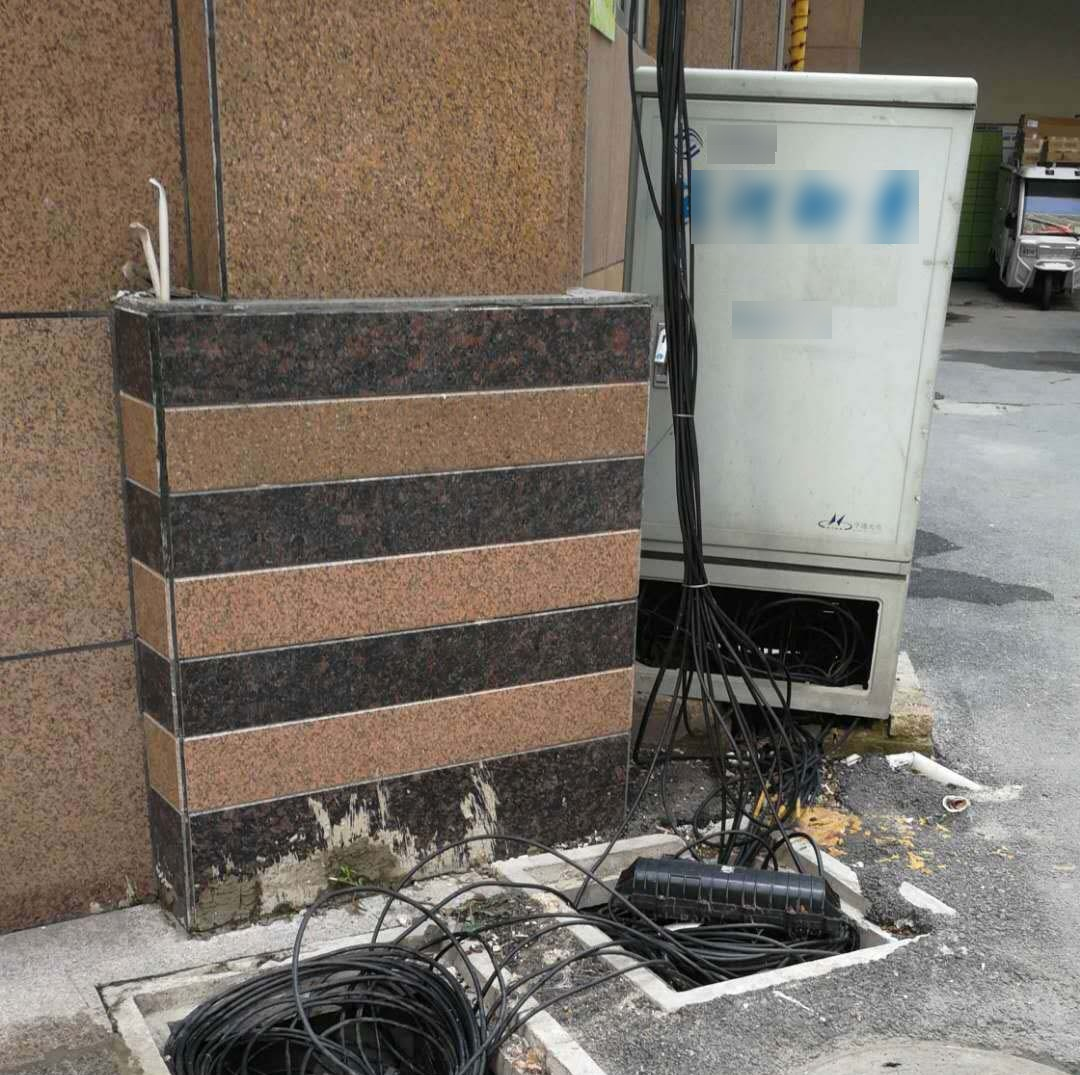well: (83, 877, 973, 1075)
